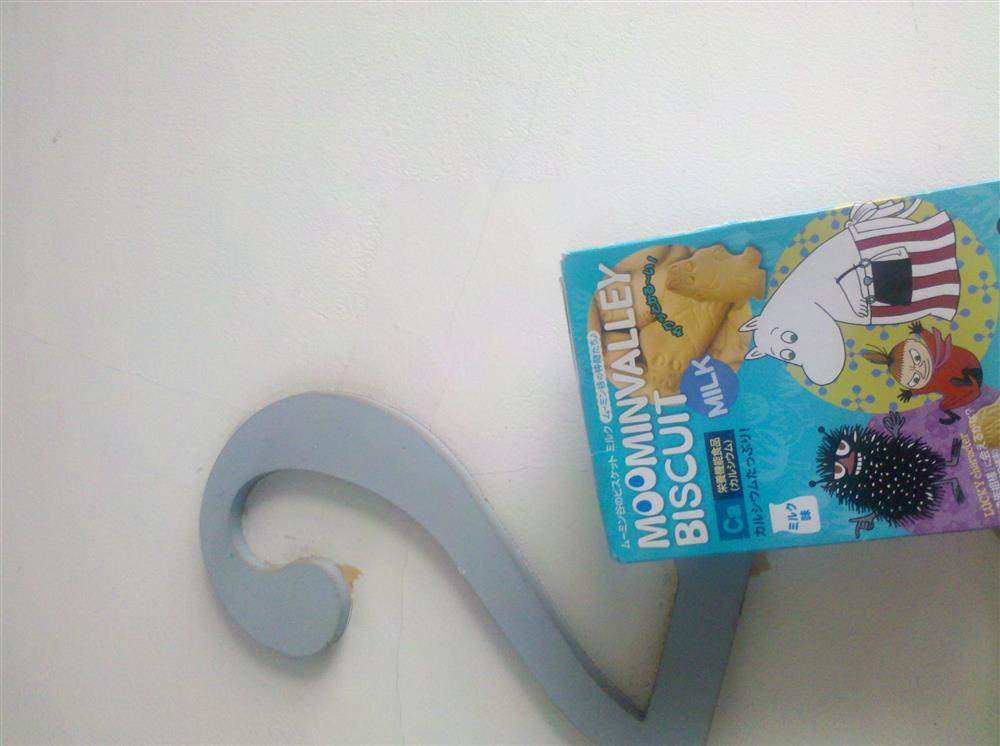Moominvalley_Biscuit: (553, 183, 999, 558)
